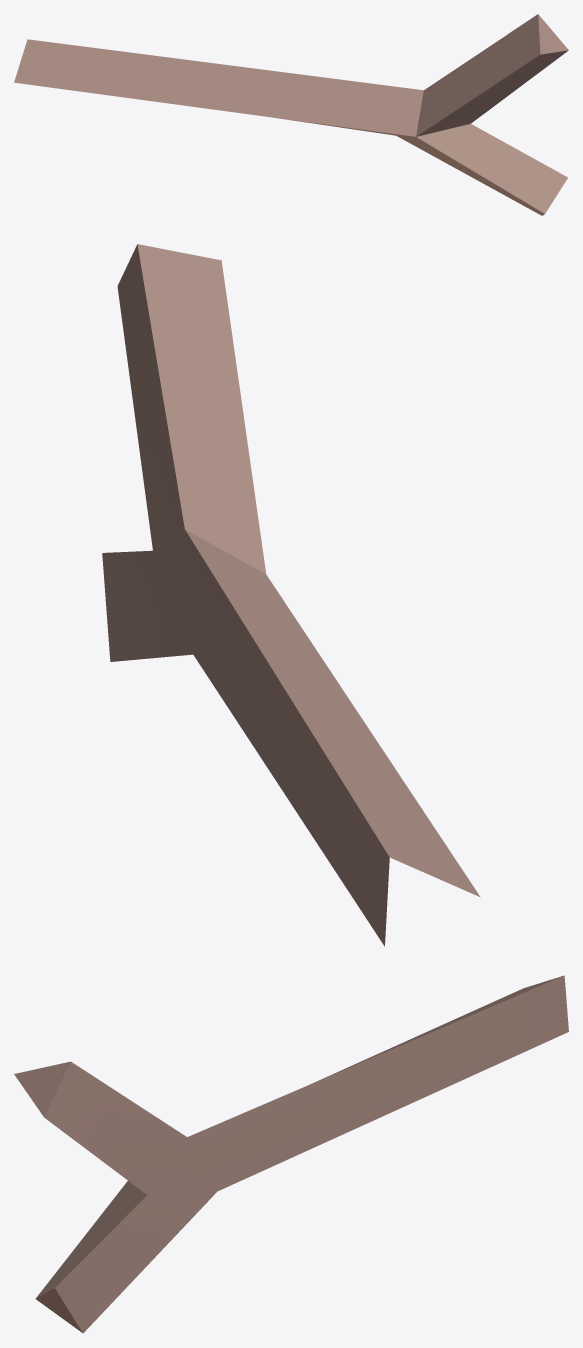
The model's file is HolidaySnowManLeftArm.glb.
3 renders of one model, top to bottom at view 1: azimuth 30°, elevation 25°; view 2: azimuth 150°, elevation 25°; view 3: azimuth 270°, elevation 25°, orthographic. The views are drawn at different scales.
Visible parts, largest first — view 1: HolidaySnowManLeftArm; view 2: HolidaySnowManLeftArm; view 3: HolidaySnowManLeftArm.
Boxes of the visible parts, x1,y1,x2,y2 form: HolidaySnowManLeftArm: (14, 14, 568, 215); HolidaySnowManLeftArm: (102, 244, 480, 946); HolidaySnowManLeftArm: (14, 975, 568, 1333).
Bounding box in the file's own units: 0.2371 × 0.1266 × 0.2388.
